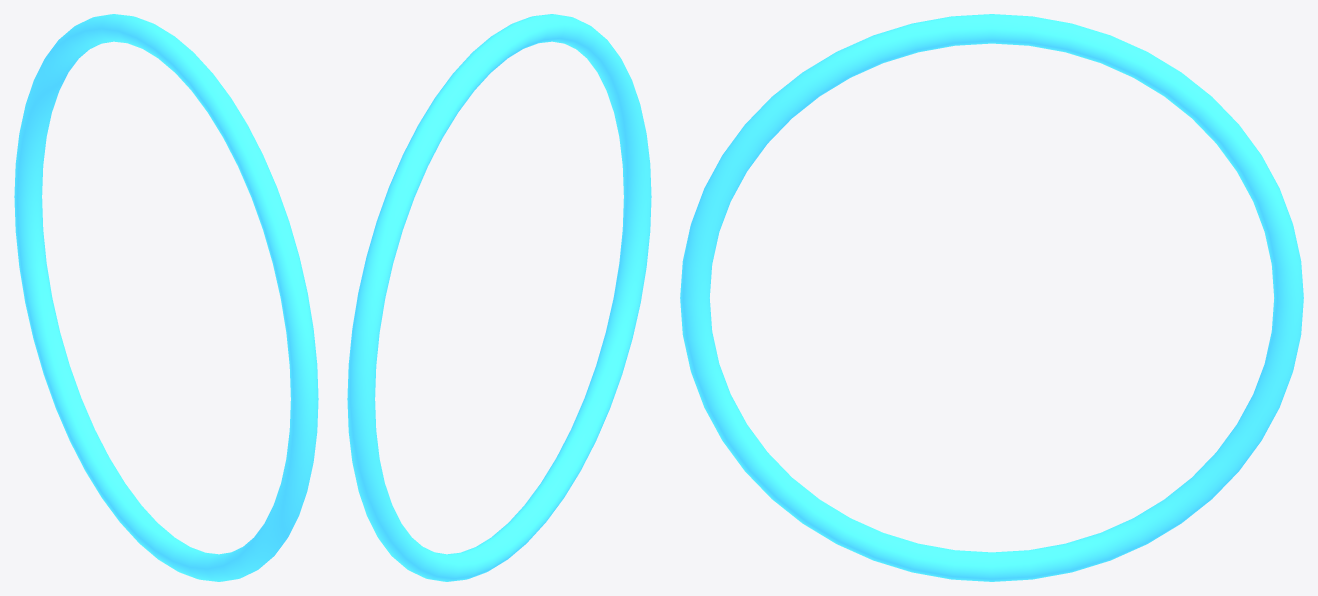
File: crash_ring_cyan.glb
3 views of the same model, side by side, from view 1: azimuth 30°, elevation 25°; view 2: azimuth 150°, elevation 25°; view 3: azimuth 270°, elevation 25° (orthographic). The views are drawn at different scales.
Parts seen in each view (by area): view 1: Ring; view 2: Ring; view 3: Ring.
Part boxes in pixels (x1,y1,x2,y2): Ring: (14, 14, 318, 581); Ring: (347, 14, 651, 581); Ring: (680, 14, 1303, 581).
Size of the model in its own units: 0.007 by 0.147 by 0.147.
